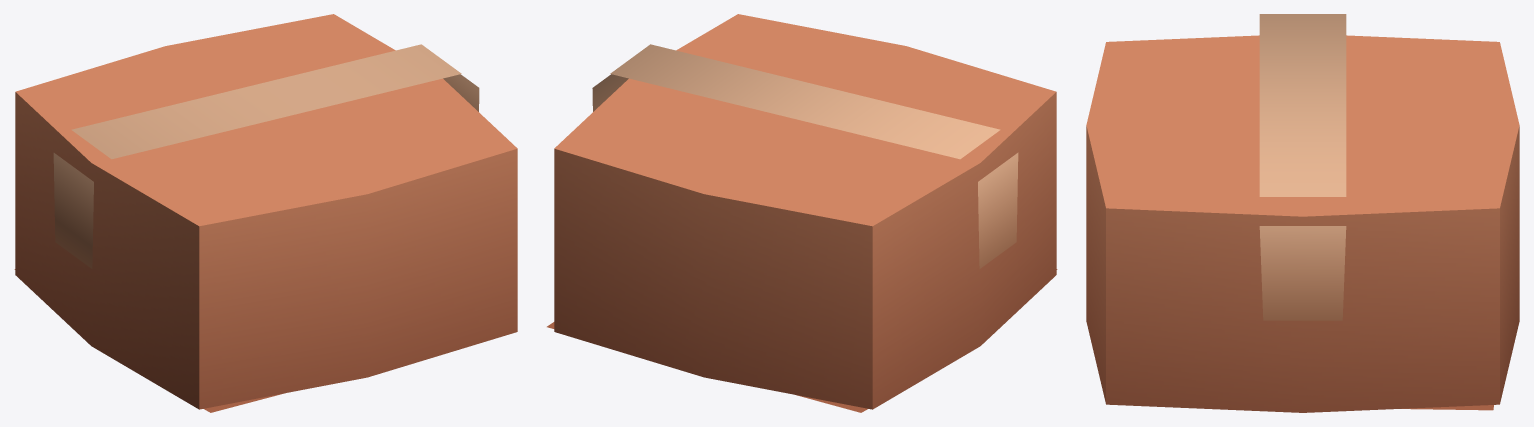
The model's file is old_military_crate_LOD1.glb.
3 views of the same model, side by side, from view 1: azimuth 30°, elevation 25°; view 2: azimuth 150°, elevation 25°; view 3: azimuth 270°, elevation 25° (orthographic). The views are drawn at different scales.
Visible parts, largest first — view 1: box-large; view 2: box-large; view 3: box-large.
Boxes of the visible parts, x1=… form: box-large: x1=14, y1=14, x2=517, y2=412; box-large: x1=547, y1=14, x2=1057, y2=412; box-large: x1=1086, y1=14, x2=1519, y2=412.
Size of what is drawn, in the model's own units: 0.88 by 0.44 by 0.8.
Materials: 1 (1 with a texture image).
